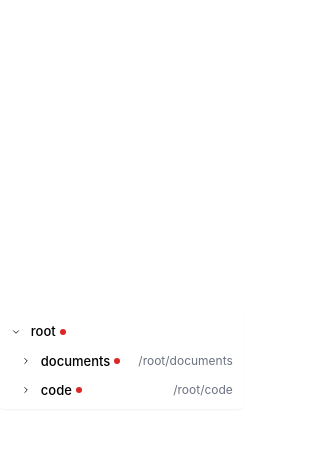
it: FolderBrowser › Inline Editing › creates new folder when "New folder" is clicked
Right-click the text "documents" at (81, 361), box x1=41 y1=352 x2=120 y2=369
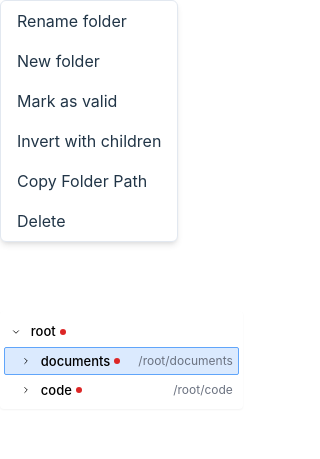
Click the text "New folder" at (58, 61), box x1=17 y1=51 x2=100 y2=71
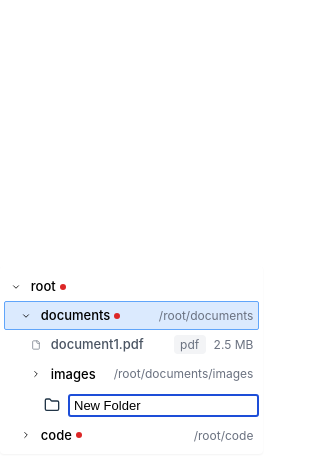
expect the field showing "New Folder" is shown: met, box x1=68 y1=394 x2=259 y2=417
